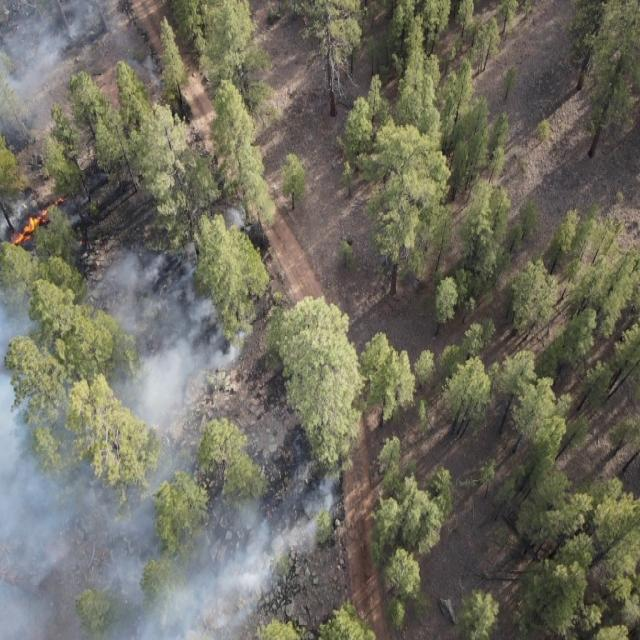fire: (1, 196, 74, 258)
smoke: (0, 205, 347, 640), (0, 0, 127, 109)
